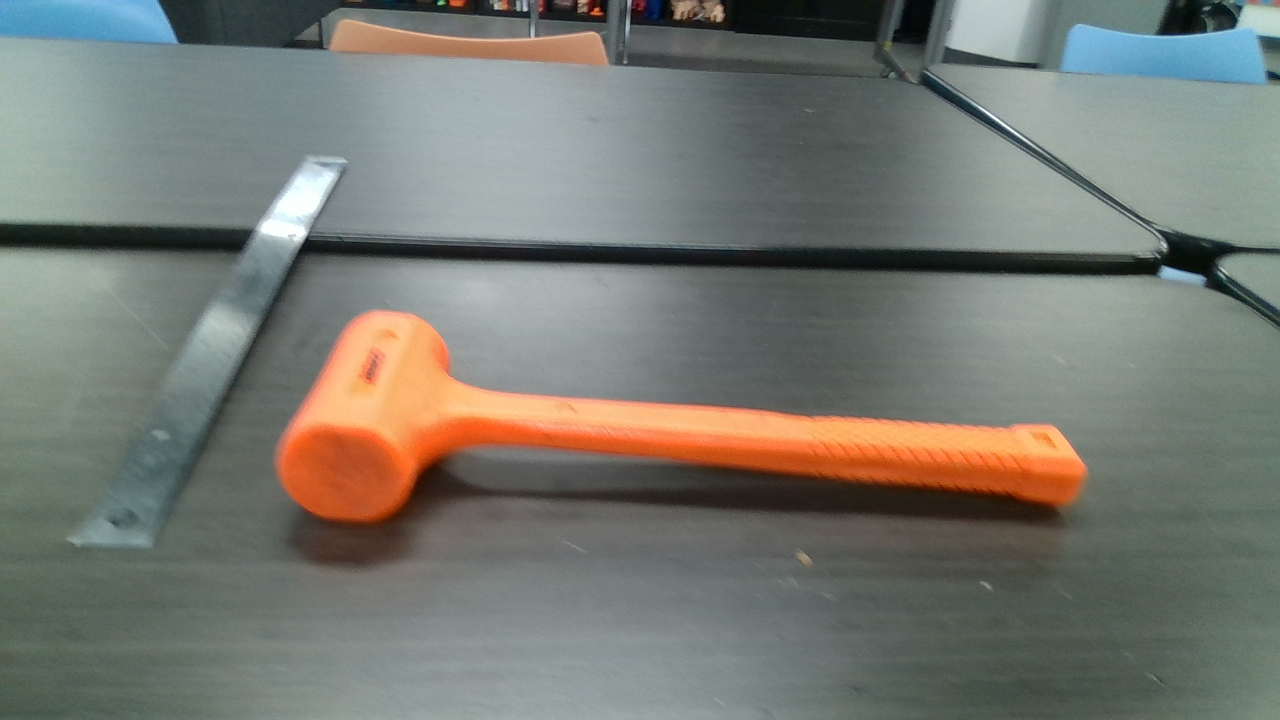Orange Hammer: (285, 308, 1084, 527)
